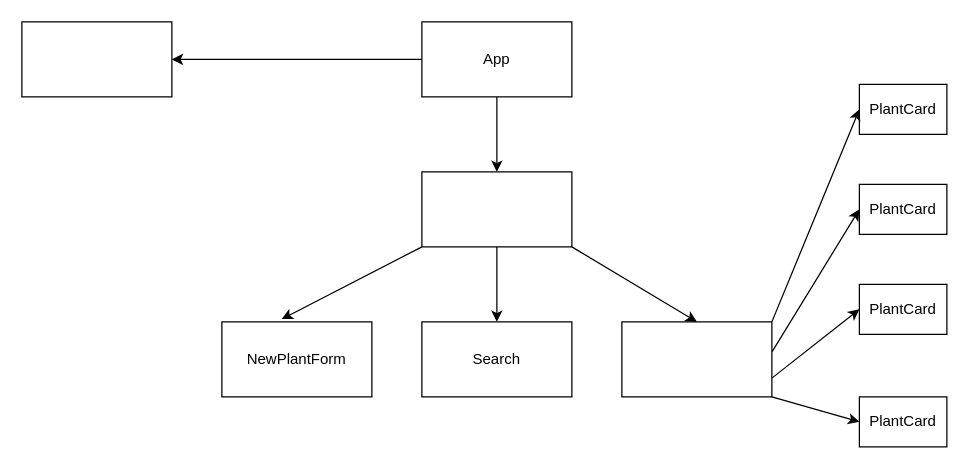
Image size: 969x469. Some labels were removed from this diagram. Each missing label, with the box of its shape:
Header: (21, 21, 172, 97)
PlantList: (621, 321, 772, 397)
PlantPage: (421, 171, 572, 247)
